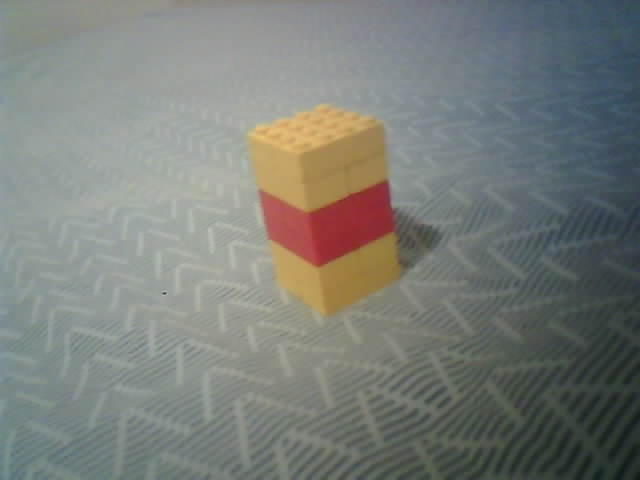lego: (246, 102, 402, 316)
